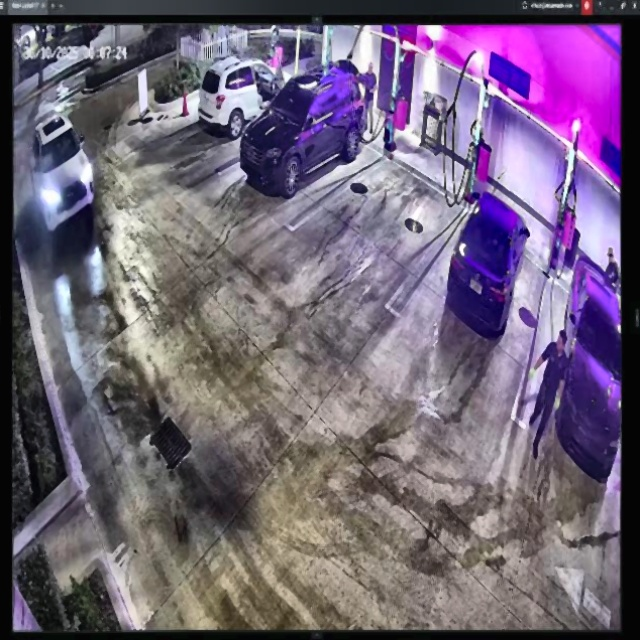Car: (241, 51, 362, 192), (449, 189, 527, 330)
